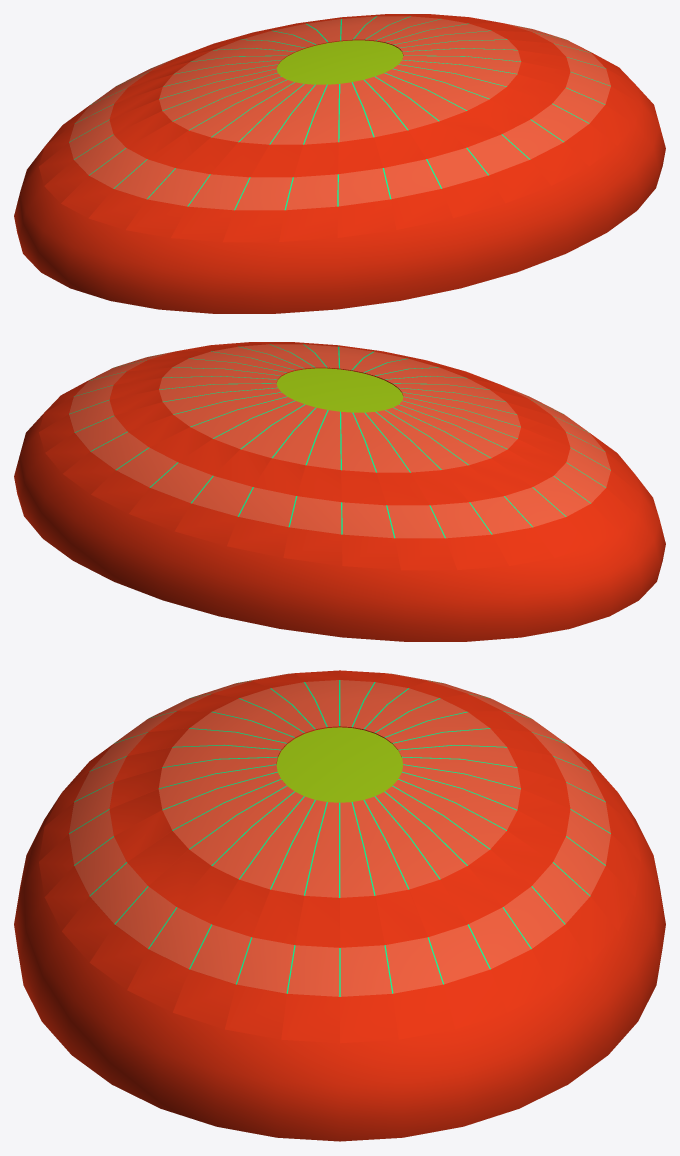
The model's file is New ceiling.fbx.
3 views of the same model, one above another, from view 1: azimuth 30°, elevation 25°; view 2: azimuth 150°, elevation 25°; view 3: azimuth 270°, elevation 25° (orthographic). The views are drawn at different scales.
Parts seen in each view (by area): view 1: roof lp; view 2: roof lp; view 3: roof lp.
Boxes of the visible parts, left/top/right/bottom form: roof lp: left=14, top=14, right=665, bottom=313; roof lp: left=14, top=342, right=665, bottom=641; roof lp: left=14, top=670, right=665, bottom=1141.
Size of the model in its own units: 7358 by 1617 by 5168.
